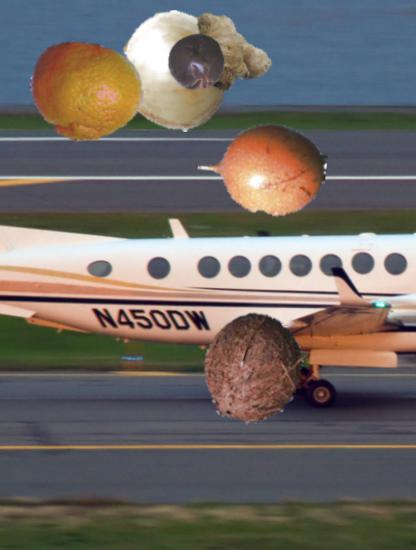Cocos: (195, 311, 310, 426)
Ginger: (185, 7, 272, 94)
Granadilla: (198, 105, 326, 233)
Mandarine: (29, 36, 144, 151)
Onion: (114, 10, 237, 133)
Passion: (167, 34, 226, 93)
